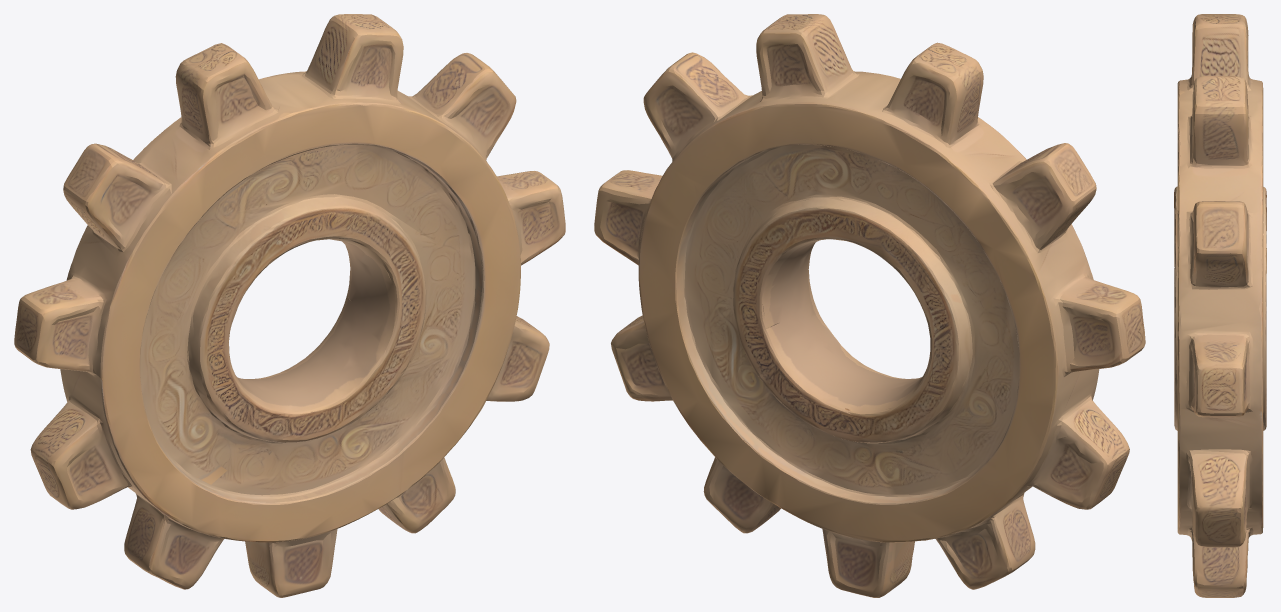
Rendered from Cog_Desert.fbx.
3 views of the same model, side by side, from view 1: azimuth 30°, elevation 25°; view 2: azimuth 150°, elevation 25°; view 3: azimuth 270°, elevation 25° (orthographic). The views are drawn at different scales.
Parts seen in each view (by area): view 1: model; view 2: model; view 3: model.
Boxes of the visible parts, left/top/right/bottom form: model: left=14, top=14, right=565, bottom=597; model: left=594, top=14, right=1145, bottom=597; model: left=1174, top=14, right=1266, bottom=597.
Size of the model in its own units: 181 by 179 by 28.67.
1 material, 1 textured.
